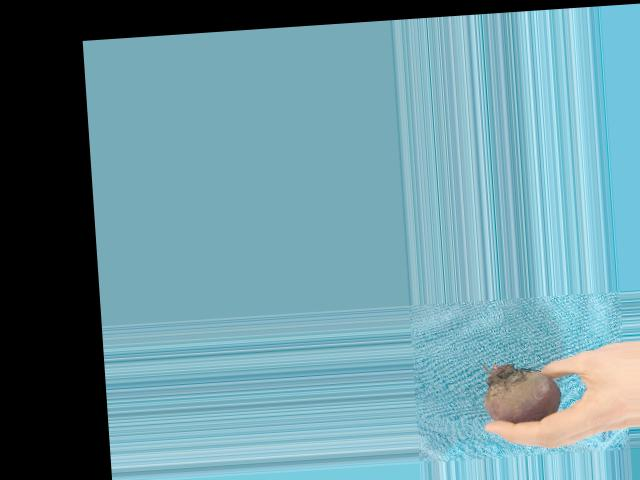beet: (481, 359, 561, 424)
